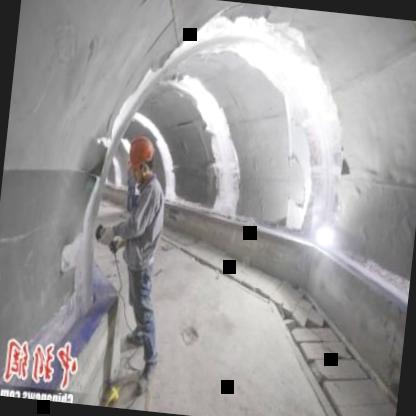helmet: (122, 127, 158, 186)
